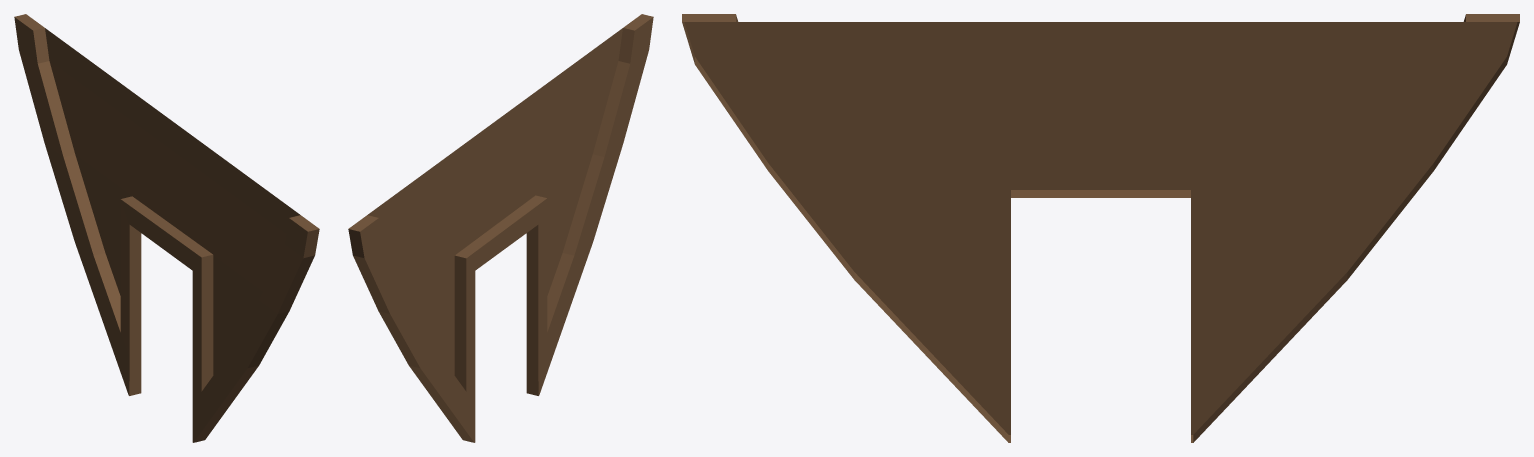
The model's file is megaship_bottom_wall.fbx.
The picture shows the model from 3 angles, left to right: view 1: azimuth 30°, elevation 25°; view 2: azimuth 150°, elevation 25°; view 3: azimuth 270°, elevation 25°; orthographic projection. The views are drawn at different scales.
Visible parts, largest first — view 1: Cube.012; view 2: Cube.012; view 3: Cube.012.
Part boxes in pixels (x1=…): Cube.012: x1=14, y1=14, x2=319, y2=442; Cube.012: x1=348, y1=14, x2=653, y2=442; Cube.012: x1=682, y1=14, x2=1519, y2=442.
Size of the model in its own units: 21.69 by 515 by 930.
